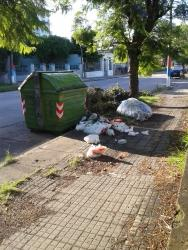Dechets: (75, 111, 138, 157), (86, 84, 129, 112), (117, 98, 152, 120), (90, 122, 110, 134), (85, 134, 99, 143)
Trash: (19, 72, 86, 136)
